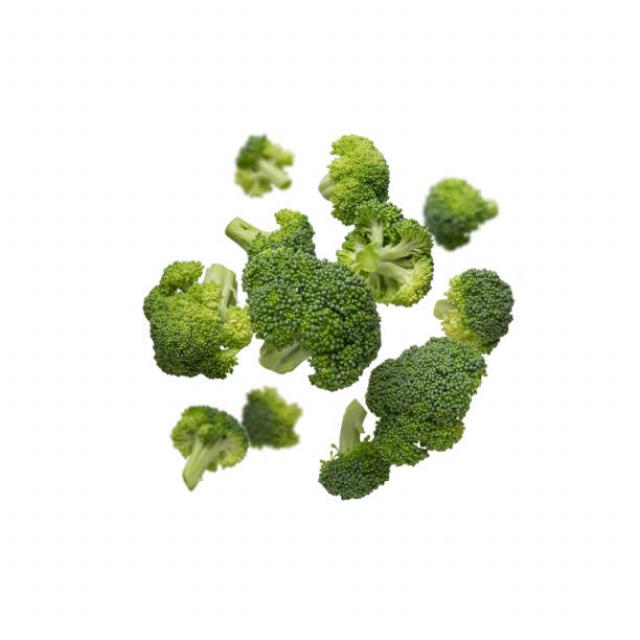Broccoli head: (256, 241, 386, 388), (134, 266, 245, 374), (388, 344, 480, 458), (160, 404, 260, 494), (319, 400, 394, 502), (362, 210, 442, 300), (421, 175, 523, 243), (445, 274, 537, 344), (318, 129, 403, 203)
